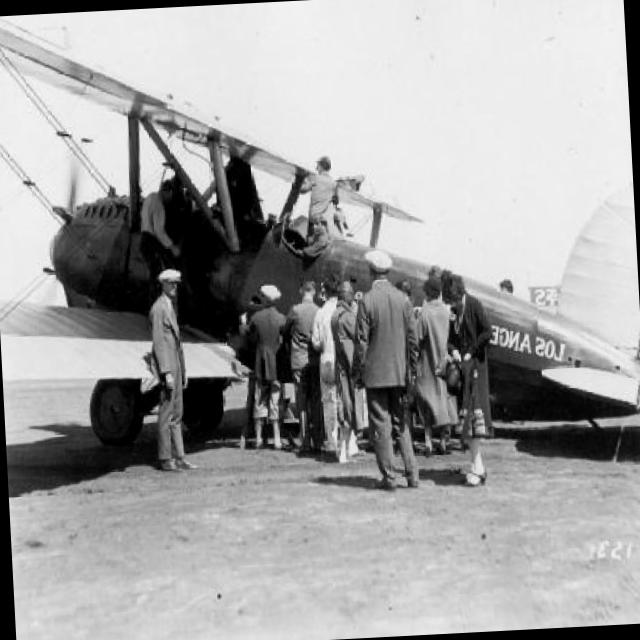Person: (344, 246, 426, 495), (440, 269, 500, 490), (144, 266, 196, 480), (234, 281, 291, 460), (408, 273, 462, 455), (280, 278, 330, 458), (308, 271, 352, 462), (296, 154, 369, 256), (328, 281, 368, 462), (134, 179, 184, 307), (342, 288, 362, 387), (171, 175, 193, 211)
